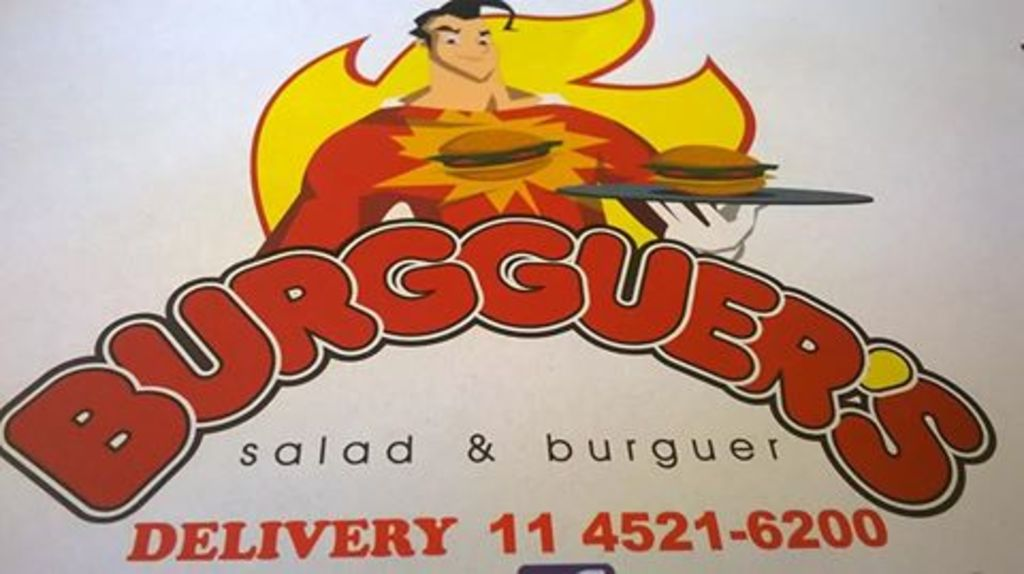hamburger: (431, 130, 561, 181), (644, 143, 779, 190)
